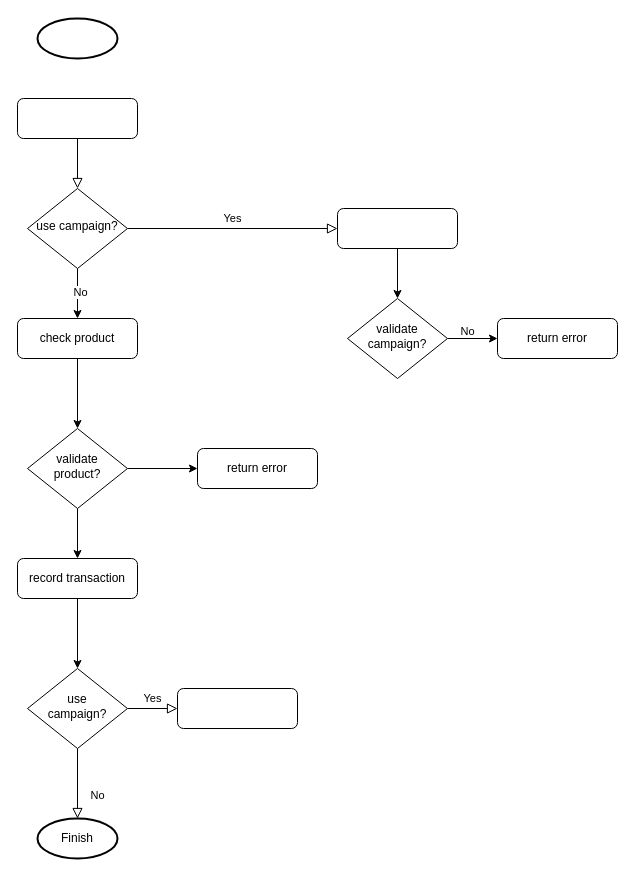
This 635x876 diagram has some shape labels left out. Each missing label, with the box of its shape:
Check Campaign info: (336, 208, 458, 248)
declare parameter: (16, 98, 138, 138)
start: (36, 17, 118, 59)
update qouta voucher: (176, 688, 298, 728)
